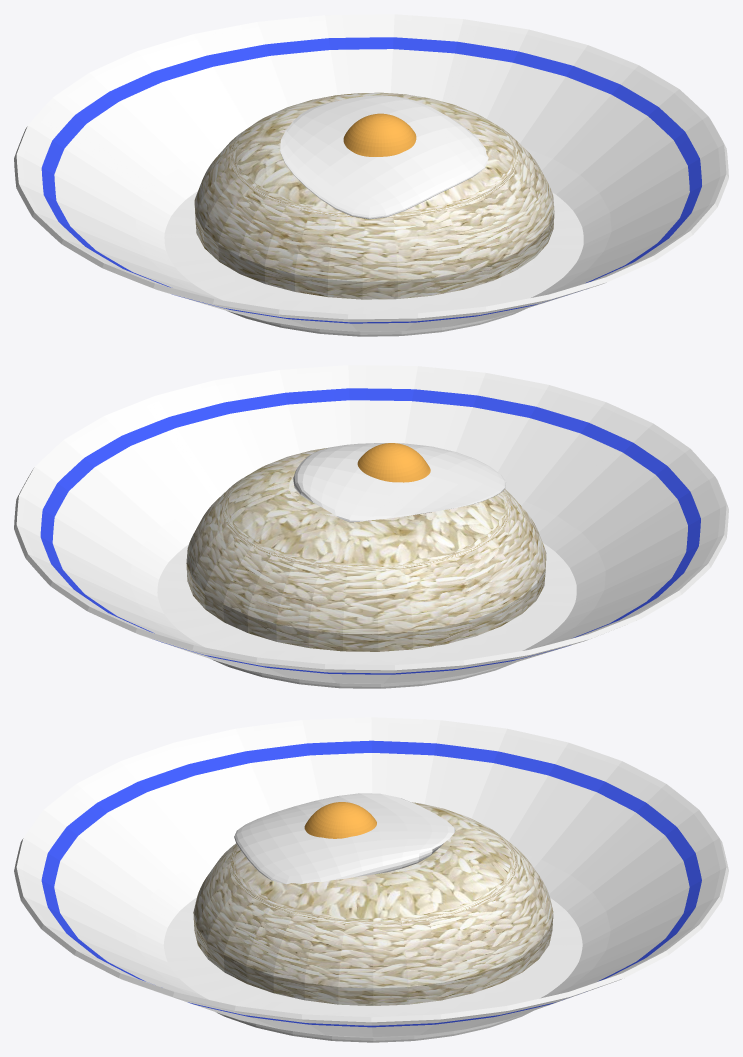
Rendered from FriedEgg+Rice.fbx.
3 views of the same model, one above another, from view 1: azimuth 30°, elevation 25°; view 2: azimuth 150°, elevation 25°; view 3: azimuth 270°, elevation 25° (orthographic).
Visible parts, largest first — view 1: Dish.001, rice.001, kaikaw, kaidang; view 2: Dish.001, rice.001, kaikaw, kaidang; view 3: Dish.001, rice.001, kaikaw, kaidang.
Boxes of the visible parts, bbox=[...] form: Dish.001: bbox=[14, 14, 728, 336]; rice.001: bbox=[194, 92, 554, 299]; kaikaw: bbox=[280, 95, 488, 219]; kaidang: bbox=[343, 113, 416, 156]; Dish.001: bbox=[14, 365, 728, 688]; rice.001: bbox=[186, 448, 546, 651]; kaikaw: bbox=[293, 443, 505, 522]; kaidang: bbox=[357, 443, 430, 482]; Dish.001: bbox=[14, 717, 728, 1042]; rice.001: bbox=[193, 802, 553, 1005]; kaikaw: bbox=[234, 793, 455, 884]; kaidang: bbox=[304, 802, 376, 838].
Bounding box in the file's own units: 412 × 91.39 × 412.
